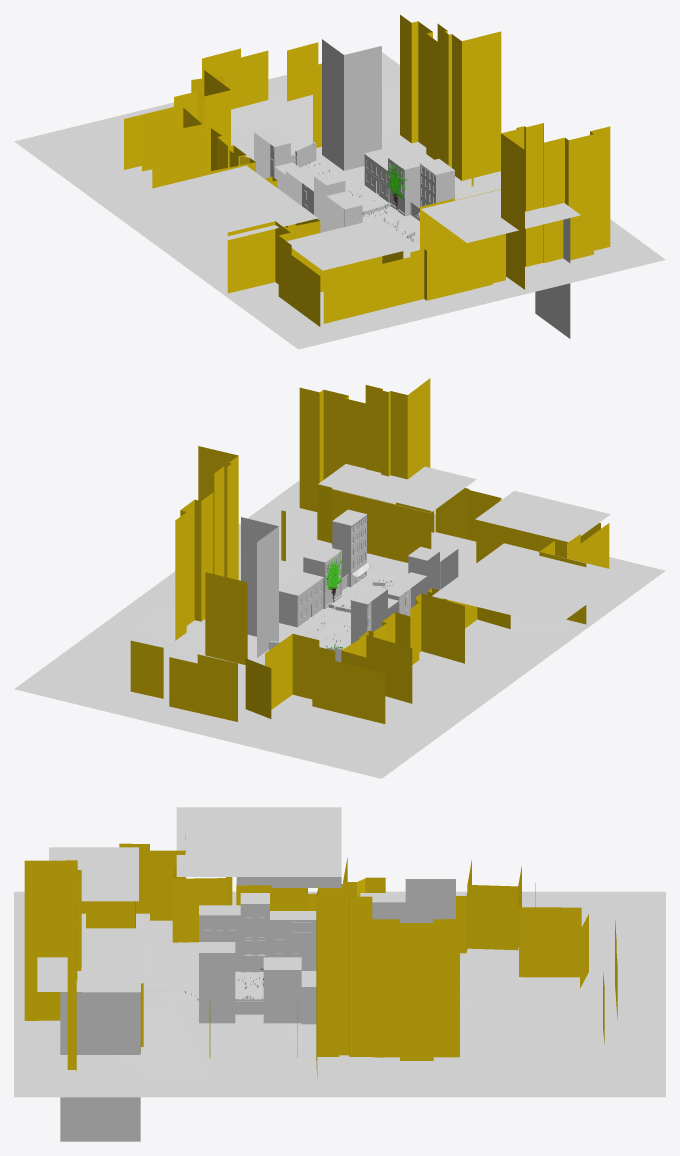
The model's file is city2.fbx.
The picture shows the model from 3 angles, top to bottom: view 1: azimuth 30°, elevation 25°; view 2: azimuth 150°, elevation 25°; view 3: azimuth 270°, elevation 25°; orthographic projection. The views are drawn at different scales.
Visible parts, largest first — view 1: 42526024.001, 42526024.006, 42526024, 42526024.007, Plane.006, 42526024.015, TexturesCom_HighRiseTowers0146_S, 42526024.011, Plane.004, 42526024.005, Plane.005, 42526024.008 (+8 smaller); view 2: 42526024.001, 42526024, 42526024.006, 42526024.007, Plane.006, 42526024.011, 42526024.005, TexturesCom_HighRiseTowers0146_S, Plane.004, Plane.005, 42526024.008, 42526024.015 (+7 smaller); view 3: 42526024.001, 42526024.011, 42526024.005, Plane.004, Plane.006, 42526024.008, Plane.005, TexturesCom_HighRiseResidential0035_S, TexturesCom_BuildingsHouseOld0005_M, TexturesCom_BuildingsHouseOld0007_M, TexturesCom_HighRiseTowers0146_S, TexturesCom_BuildingsHouseOld0203_S (+6 smaller).
Part boxes in pixels (x1,y1,x2,y2): 42526024.001: (14, 52, 665, 349); 42526024.006: (142, 107, 505, 323); 42526024: (124, 42, 473, 274); 42526024.007: (501, 123, 610, 266); Plane.006: (122, 165, 317, 248); 42526024.015: (411, 21, 501, 180); TexturesCom_HighRiseTowers0146_S: (322, 39, 381, 170); 42526024.011: (400, 15, 461, 180); Plane.004: (421, 189, 580, 338); 42526024.005: (183, 70, 426, 326); Plane.005: (287, 218, 418, 270); 42526024.008: (501, 123, 593, 289); 42526024.001: (14, 481, 665, 778); 42526024: (130, 540, 566, 723); 42526024.006: (281, 484, 600, 671); 42526024.007: (299, 385, 407, 511); Plane.006: (432, 543, 628, 626); 42526024.011: (175, 456, 238, 640); 42526024.005: (265, 488, 609, 709); TexturesCom_HighRiseTowers0146_S: (241, 517, 278, 657); Plane.004: (318, 464, 476, 513); Plane.005: (475, 490, 610, 542); 42526024.008: (319, 378, 430, 482); 42526024.015: (180, 446, 238, 621); 42526024.001: (14, 891, 665, 1097); 42526024.011: (316, 895, 459, 1060); 42526024.005: (81, 843, 581, 1046); Plane.004: (37, 928, 144, 1141); Plane.006: (176, 807, 341, 887); 42526024.008: (24, 860, 81, 1069); Plane.005: (49, 847, 138, 901); TexturesCom_HighRiseResidential0035_S: (199, 942, 235, 1023); TexturesCom_BuildingsHouseOld0005_M: (270, 911, 316, 970); TexturesCom_BuildingsHouseOld0007_M: (240, 893, 269, 972); TexturesCom_HighRiseTowers0146_S: (405, 879, 455, 922); TexturesCom_BuildingsHouseOld0203_S: (263, 957, 301, 1002).
Bounding box in the file's own units: 644 × 330 × 790.
